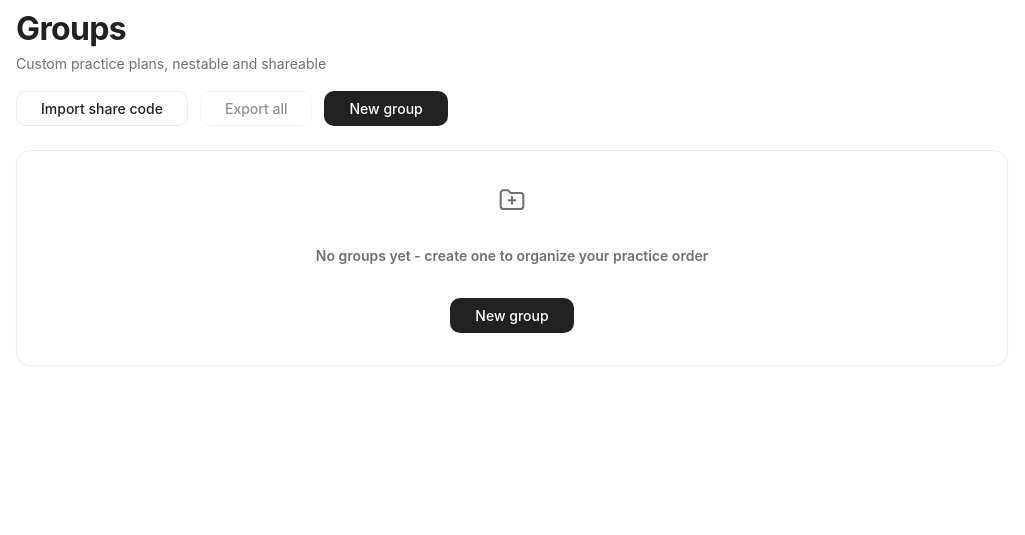
Groups view › shows the empty state and opens the create card from it
The image size is (1025, 535).
Expected: the element with test id "groups-empty" is shown, 16,150 -> 1008,366
What coordinates should you click on to do the following:
click the 2nd button "New group"
I would click on:
 (512, 315)
Its box is 450,298 -> 574,333.
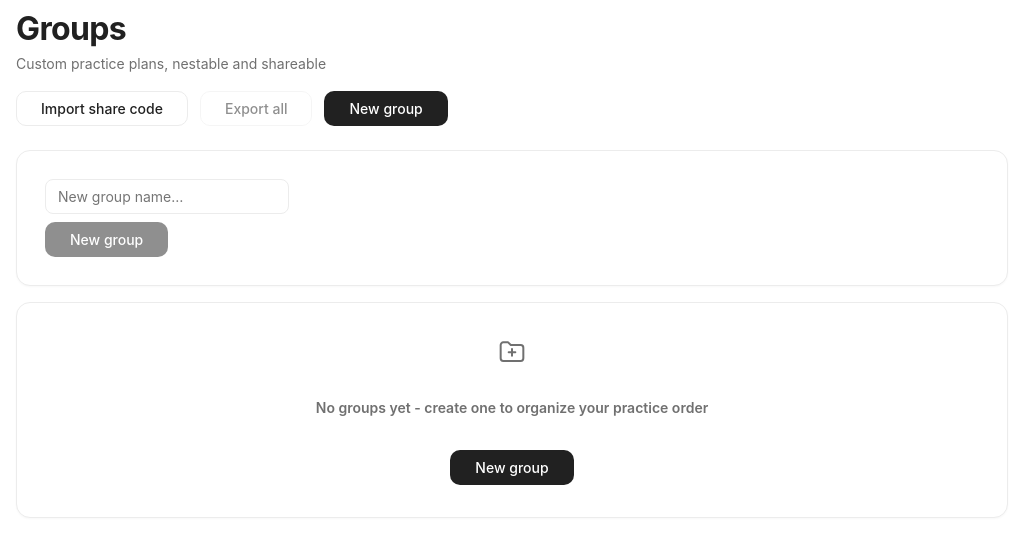
Now the field with test id "groups-create-name" is shown, box 45,179 -> 289,214
